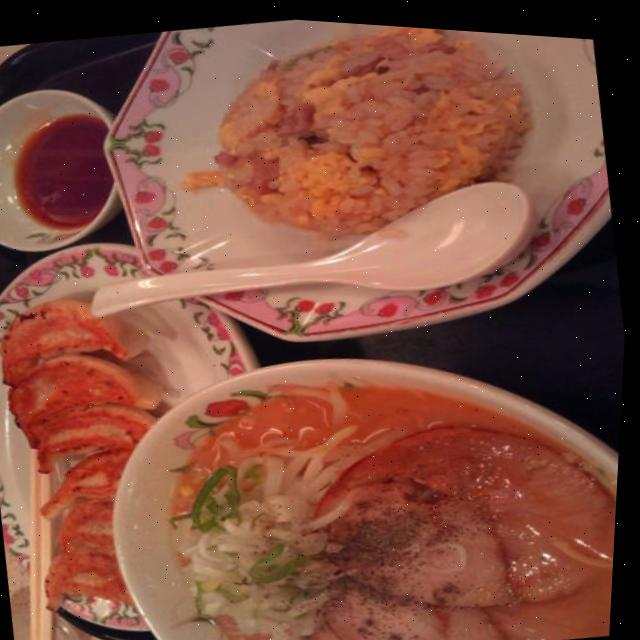带馅早点: (0, 270, 202, 640)
米饭主食: (155, 9, 551, 289)
面条主食: (118, 300, 628, 640)
